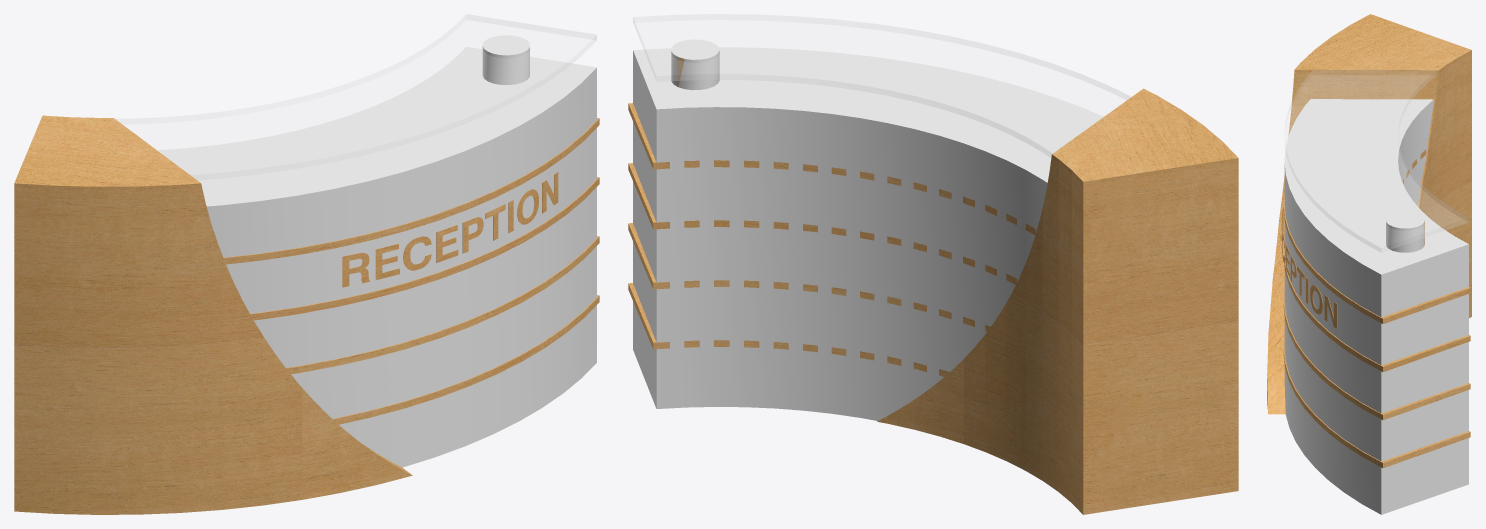
Rendered from receptionTable.obj.
3 views of the same model, side by side, from view 1: azimuth 30°, elevation 25°; view 2: azimuth 150°, elevation 25°; view 3: azimuth 270°, elevation 25° (orthographic). The views are drawn at different scales.
Visible parts, largest first — view 1: Tube04, Object03, Object01, Object02; view 2: Object03, Tube04, Object01, Object02; view 3: Object03, Tube04, Object01, Object02.
Part boxes in pixels (x1=…): Tube04: x1=14, y1=115, x2=599, y2=514; Object03: x1=157, y1=46, x2=596, y2=467; Object01: x1=116, y1=14, x2=596, y2=179; Object02: x1=482, y1=35, x2=529, y2=85; Object03: x1=633, y1=47, x2=1103, y2=420; Tube04: x1=628, y1=57, x2=1238, y2=514; Object01: x1=633, y1=14, x2=1130, y2=157; Object02: x1=671, y1=39, x2=719, y2=90; Object03: x1=1284, y1=99, x2=1468, y2=514; Tube04: x1=1267, y1=14, x2=1471, y2=468; Object01: x1=1285, y1=70, x2=1468, y2=252; Object02: x1=1386, y1=212, x2=1424, y2=252.
Size of the model in its own units: 4494 by 2375 by 1652.
